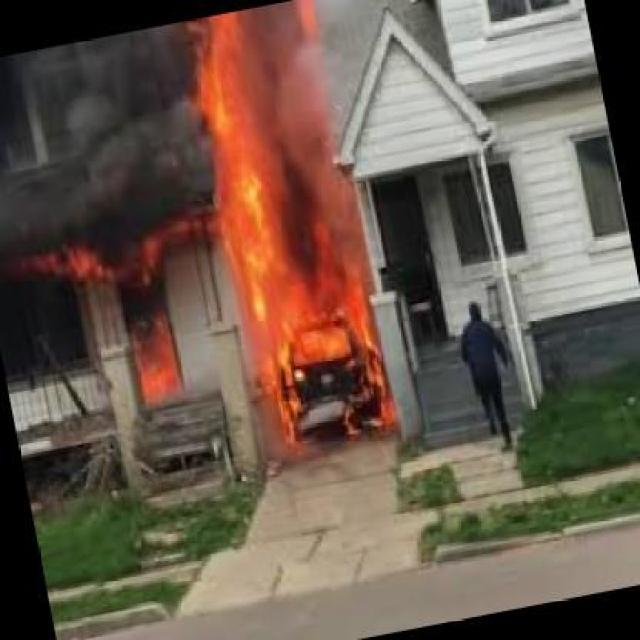Fire: (190, 16, 392, 448), (29, 226, 202, 412)
Smoke: (2, 55, 207, 224), (280, 41, 395, 230)
